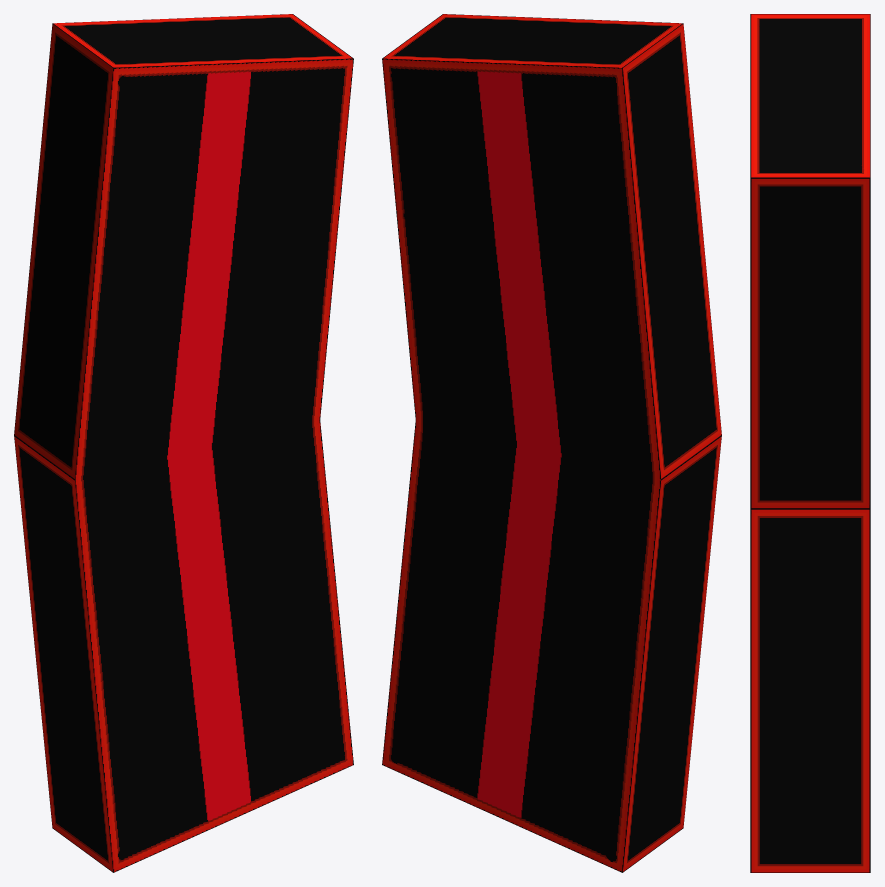
File: block01.fbx
The picture shows the model from 3 angles, left to right: view 1: azimuth 30°, elevation 25°; view 2: azimuth 150°, elevation 25°; view 3: azimuth 270°, elevation 25°; orthographic projection.
Visible parts, largest first — view 1: 圓柱體.002; view 2: 圓柱體.002; view 3: 圓柱體.002.
Part boxes in pixels (x1,y1,x2,y2): 圓柱體.002: (14, 14, 353, 872); 圓柱體.002: (382, 14, 721, 872); 圓柱體.002: (750, 14, 870, 872).
Size of the model in its own units: 1.32 by 3.63 by 0.4986.
1 material, 1 textured.
